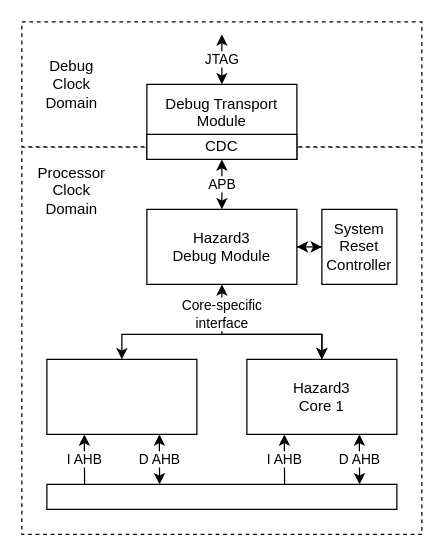
Image size: 444x556. Some labels were removed from this diagram. Each missing label, with the centre of its shape:
"Hazard3 Core 0" goes at pixel 121 396.
"System Bus" goes at pixel 221 496.
